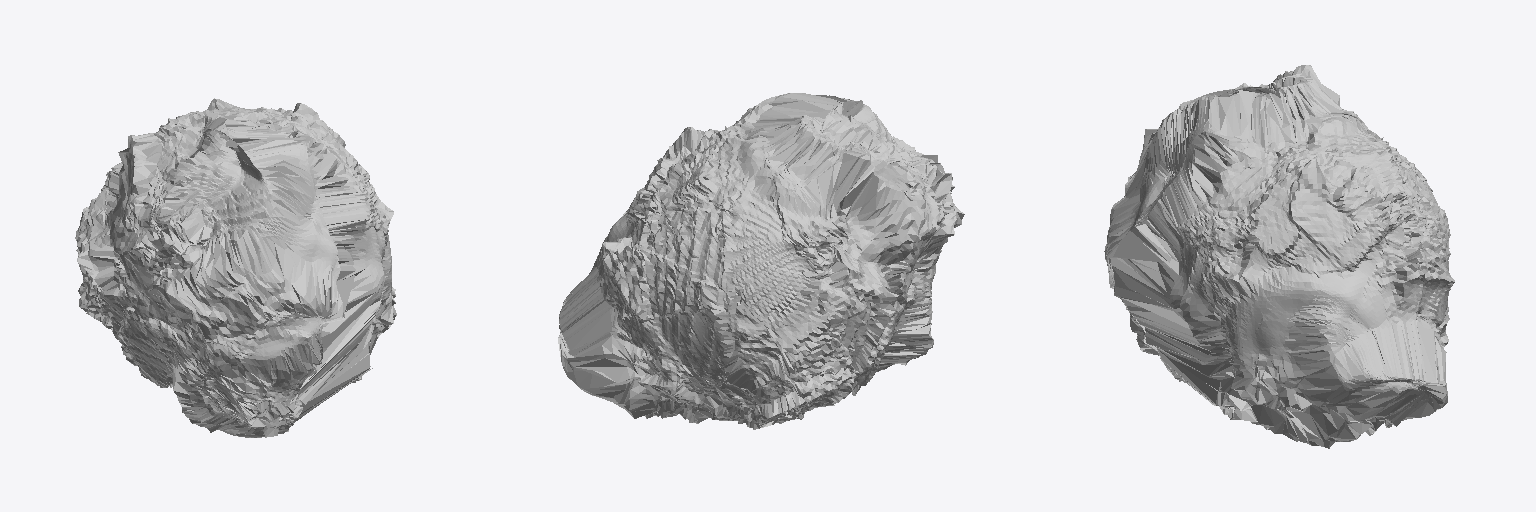
Rendered from Meteor1.OBJ.
3 views of the same model, side by side, from view 1: azimuth 30°, elevation 25°; view 2: azimuth 150°, elevation 25°; view 3: azimuth 270°, elevation 25° (orthographic).
Visible parts, largest first — view 1: ZBrush_defualt_group; view 2: ZBrush_defualt_group; view 3: ZBrush_defualt_group.
Boxes of the visible parts, <box> form: ZBrush_defualt_group: <box>75,98,396,437</box>; ZBrush_defualt_group: <box>558,93,964,429</box>; ZBrush_defualt_group: <box>1104,65,1454,448</box>.
Bounding box in the file's own units: 1.72 × 1.6 × 1.69.